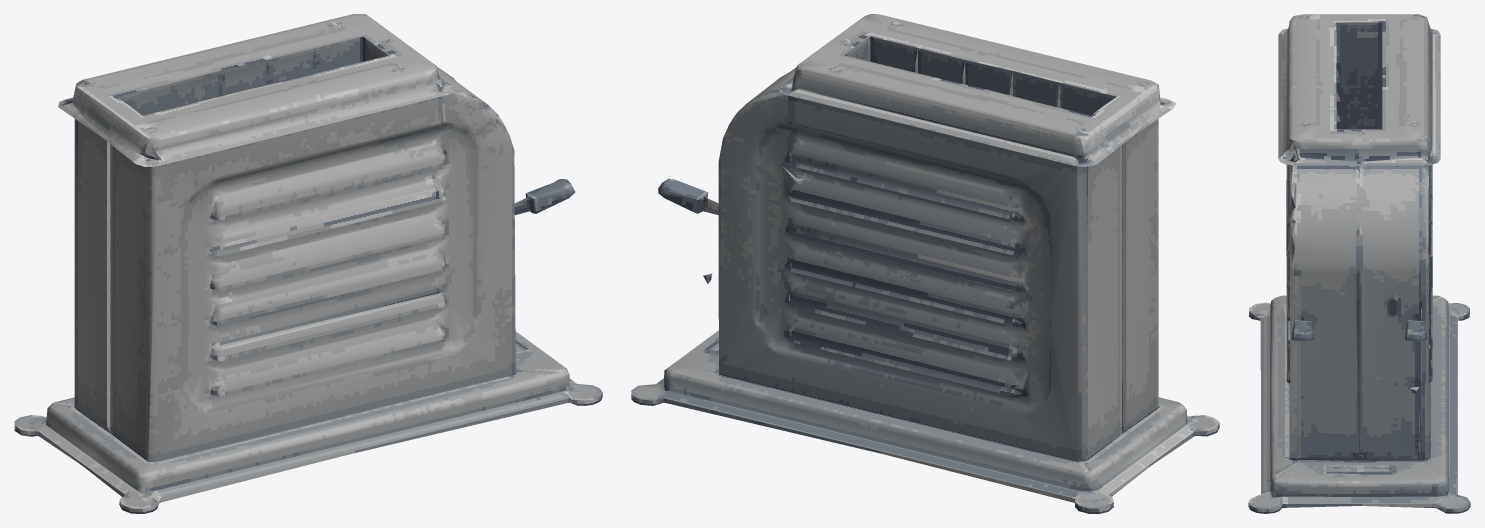
The model's file is toaster.glb.
3 views of the same model, side by side, from view 1: azimuth 30°, elevation 25°; view 2: azimuth 150°, elevation 25°; view 3: azimuth 270°, elevation 25° (orthographic). The views are drawn at different scales.
Parts seen in each view (by area): view 1: mesh; view 2: mesh; view 3: mesh.
Boxes of the visible parts, box(x1,y1,x2,y2) form: mesh: box(14, 14, 602, 513); mesh: box(631, 14, 1219, 513); mesh: box(1248, 14, 1470, 513).
Bounding box in the file's own units: 0.2823 × 0.2 × 0.1282.
1 material, 1 textured.
